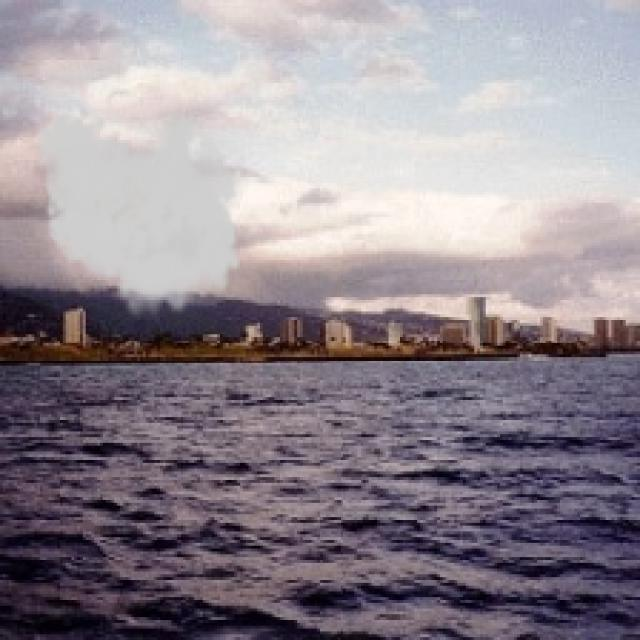Smoke: (34, 103, 254, 323)
